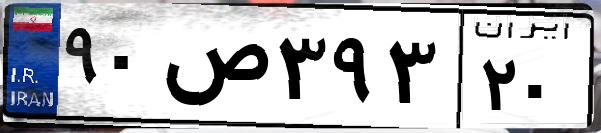0: (525, 38, 570, 115), (110, 28, 158, 98)
2: (475, 38, 525, 113)
3: (270, 28, 330, 110), (385, 28, 445, 110)
9: (330, 28, 385, 110), (57, 26, 110, 100)
ص: (158, 20, 270, 120)
